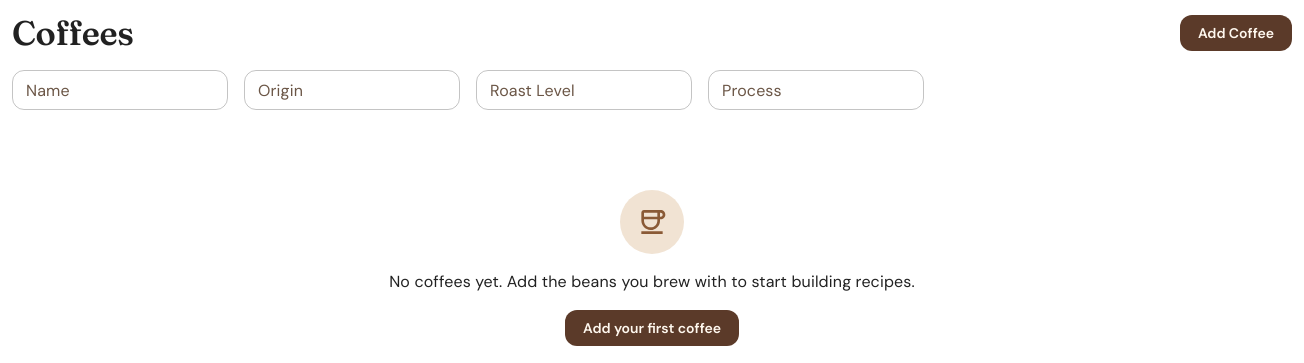
Test: CoffeesView › says nothing matches when filters hide every coffee
In the field labelled "Name": (120, 90) 12,70 -> 228,110, type "Nope"
Wait 300 ms
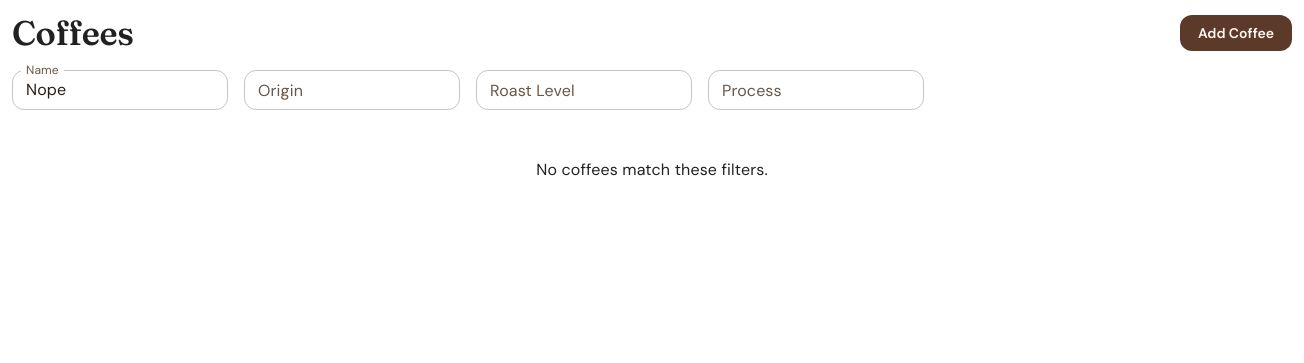
Check: the text "No coffees match these filters." is shown, box 536,159 -> 768,180
Check: the button "Add your first coffee" is gone
